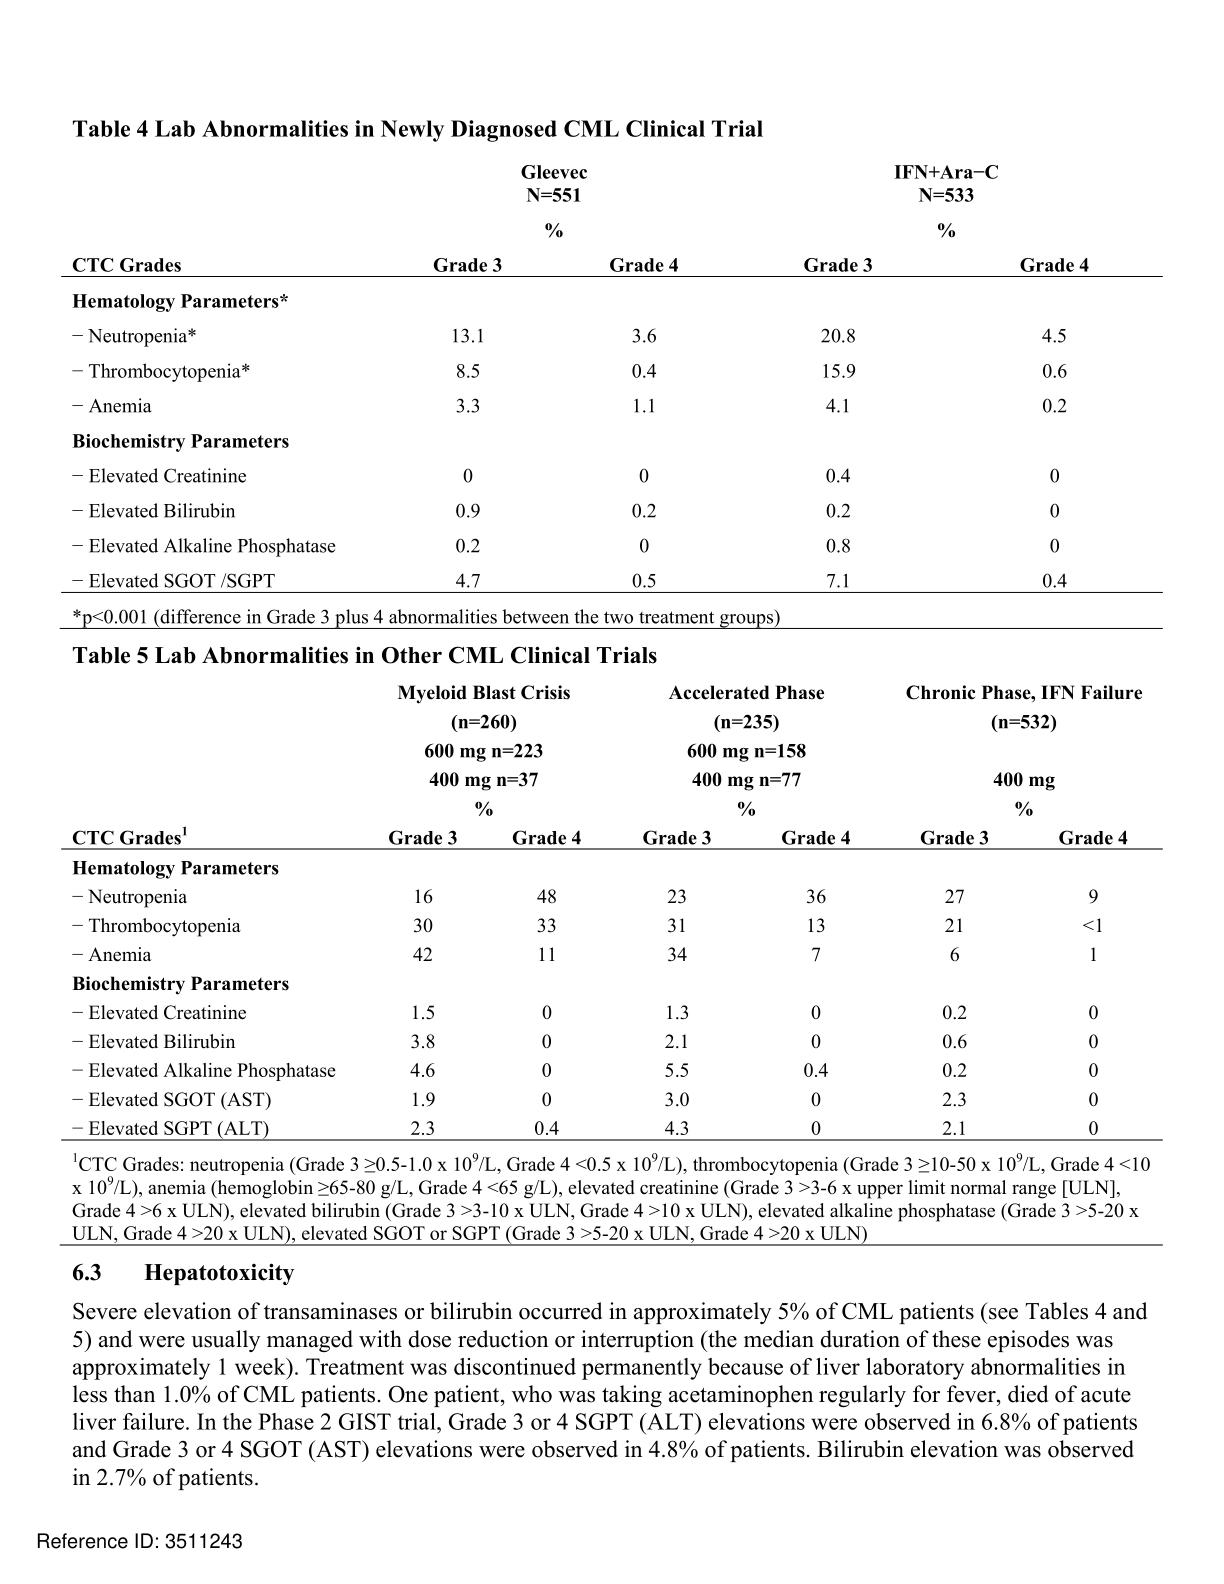partial_lined_merged_cells: (60, 680, 1164, 1142), (60, 159, 1165, 594)
